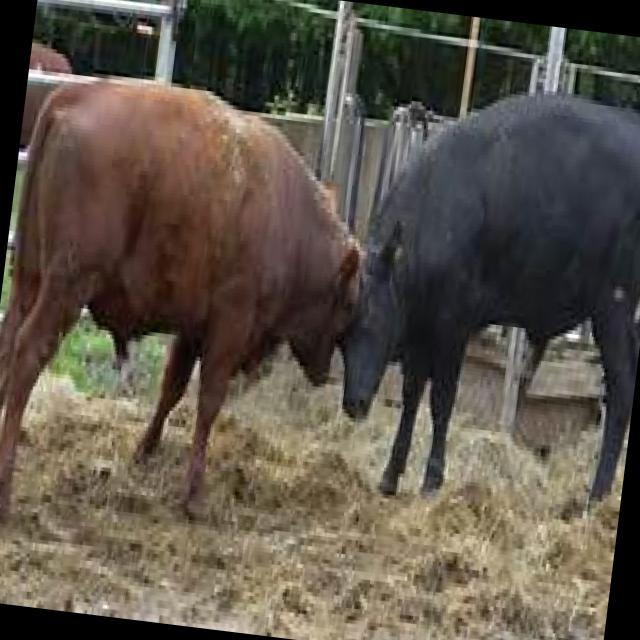cow: (0, 61, 385, 559), (326, 65, 640, 522)
